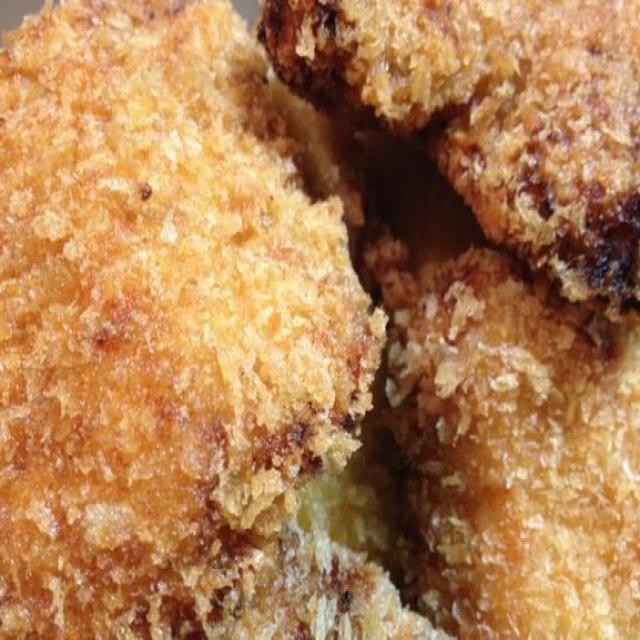鸡肉料理 含炸鸡: (3, 8, 636, 628)
